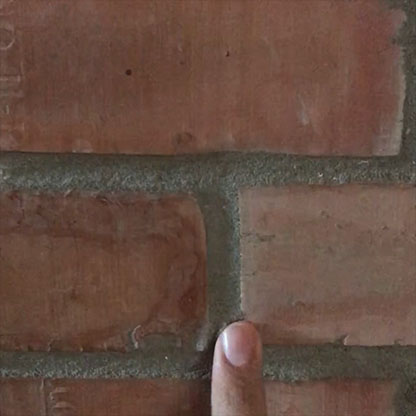fingertip: (210, 317, 273, 387)
